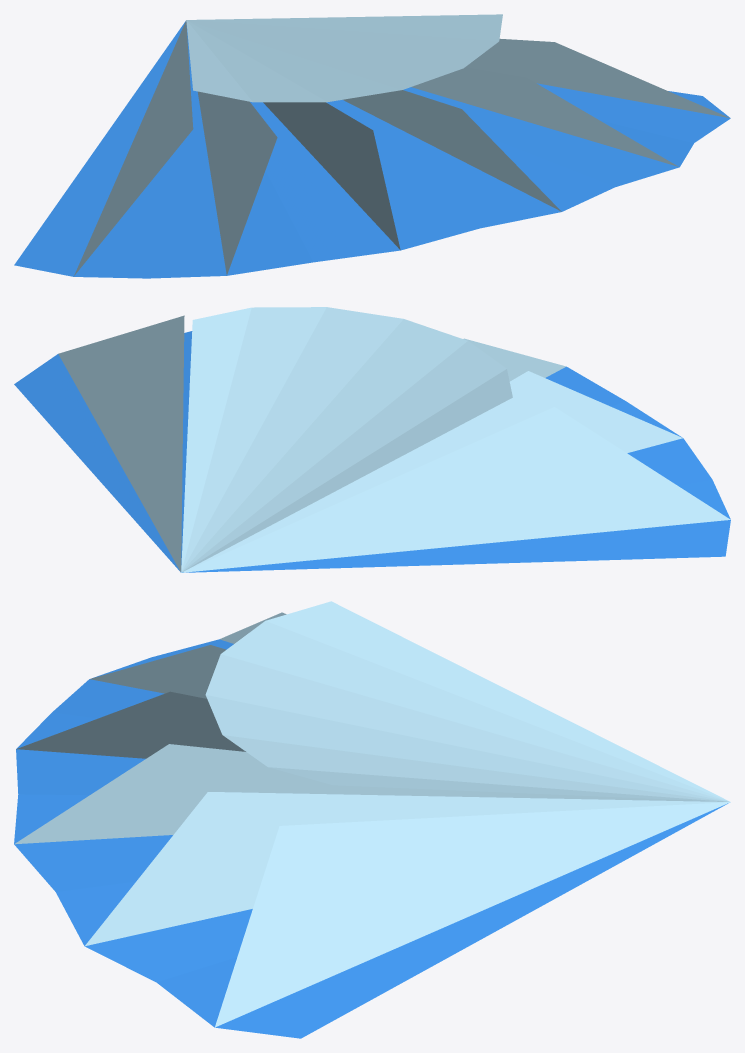
File: FishScale.obj
3 renders of one model, top to bottom at view 1: azimuth 30°, elevation 25°; view 2: azimuth 150°, elevation 25°; view 3: azimuth 270°, elevation 25°, orthographic. The views are drawn at different scales.
Parts seen in each view (by area): view 1: FishScale; view 2: FishScale; view 3: FishScale.
Part boxes in pixels (<box>): FishScale: <box>14,14,730,278</box>; FishScale: <box>14,307,730,572</box>; FishScale: <box>14,601,730,1038</box>.
Size of the model in its own units: 0.5719 by 0.0931 by 0.4238.
